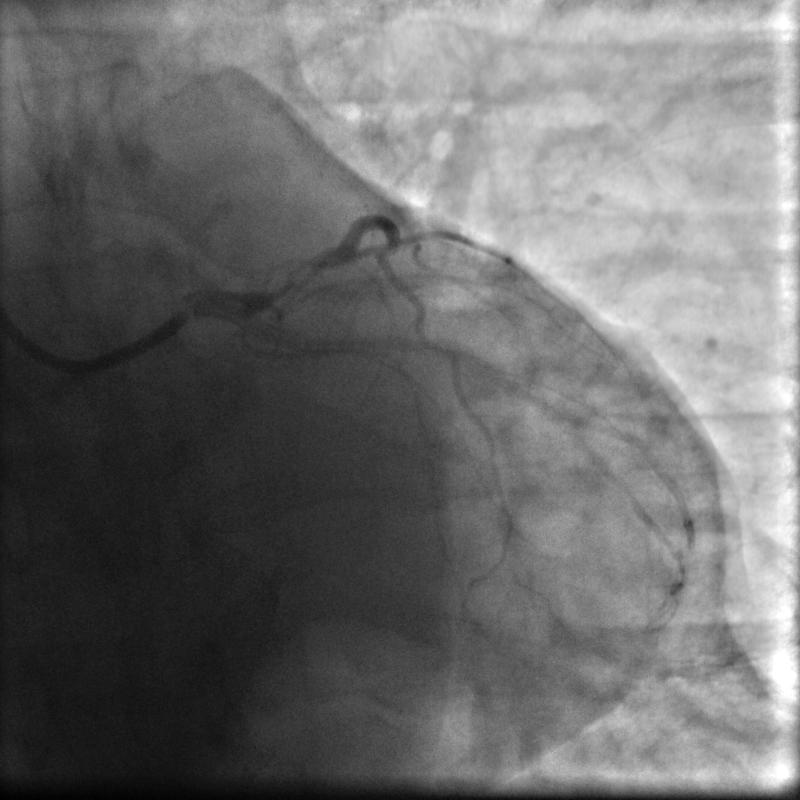Stenosis: (267, 256, 338, 296)
